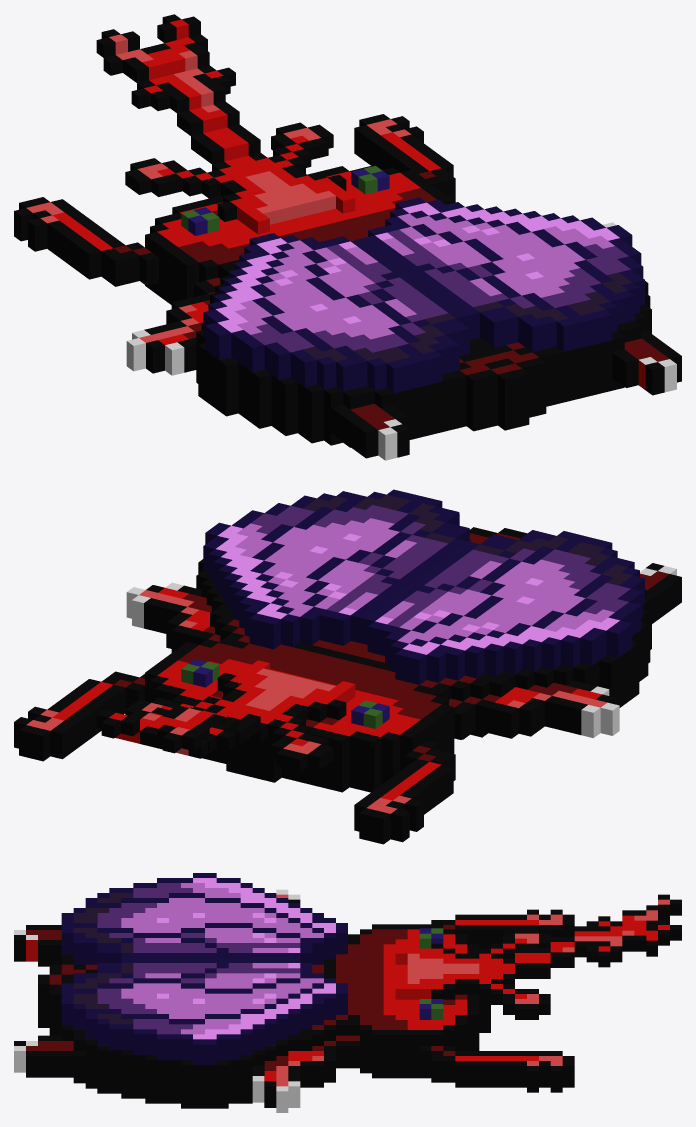
File: Escarabajo.fbx
The picture shows the model from 3 angles, top to bottom: view 1: azimuth 30°, elevation 25°; view 2: azimuth 150°, elevation 25°; view 3: azimuth 270°, elevation 25°; orthographic projection. The views are drawn at different scales.
Parts seen in each view (by area): view 1: Cuerpo, Ala_Izq, Ala_Der, Cuerno, Pata_Delantera_Izq, Pata_Medio_Izq, Pata_Delantera_Der, Pata_trasera_Izq, Pata_trasera_Der; view 2: Ala_Izq, Cuerpo, Ala_Der, Cuerno, Pata_Medio_Izq, Pata_Delantera_Izq, Pata_Delantera_Der, Pata_Medio_Der, Pata_trasera_Izq; view 3: Cuerpo, Ala_Der, Ala_Izq, Cuerno, Pata_Delantera_Der, Pata_Medio_Der, Pata_Delantera_Izq, Pata_trasera_Der, Pata_trasera_Izq.
Boxes of the visible parts, <box> form: Cuerpo: <box>145,165,651,447</box>; Ala_Izq: <box>203,233,469,393</box>; Ala_Der: <box>363,197,644,352</box>; Cuerno: <box>96,14,355,234</box>; Pata_Delantera_Izq: <box>14,197,158,286</box>; Pata_Medio_Izq: <box>126,275,220,375</box>; Pata_Delantera_Der: <box>354,114,455,202</box>; Pata_trasera_Izq: <box>324,402,409,460</box>; Pata_trasera_Der: <box>612,330,681,395</box>; Ala_Izq: <box>362,530,644,684</box>; Cuerpo: <box>145,527,651,792</box>; Ala_Der: <box>203,489,469,649</box>; Cuerno: <box>96,660,355,772</box>; Pata_Medio_Izq: <box>449,680,619,739</box>; Pata_Delantera_Izq: <box>354,740,455,844</box>; Pata_Delantera_Der: <box>14,671,144,761</box>; Pata_Medio_Der: <box>126,582,220,652</box>; Pata_trasera_Izq: <box>640,563,681,623</box>; Cuerpo: <box>38,924,490,1108</box>; Ala_Der: <box>61,958,347,1065</box>; Ala_Izq: <box>61,873,347,964</box>; Cuerno: <box>395,894,681,1019</box>; Pata_Delantera_Der: <box>419,1046,574,1092</box>; Pata_Medio_Der: <box>252,1035,371,1112</box>; Pata_Delantera_Izq: <box>431,909,574,948</box>; Pata_trasera_Der: <box>14,1035,97,1077</box>; Pata_trasera_Izq: <box>14,925,61,966</box>.
Size of the model in its own units: 40 by 10.02 by 56.
